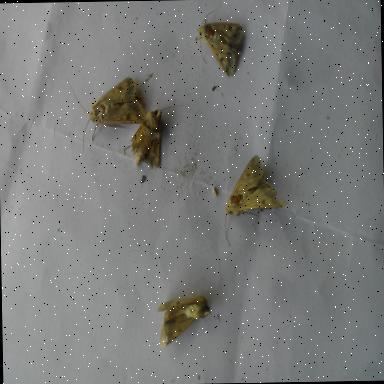abw: (68, 68, 151, 158), (220, 152, 292, 253), (119, 86, 187, 172), (192, 5, 248, 83), (155, 290, 215, 352)
